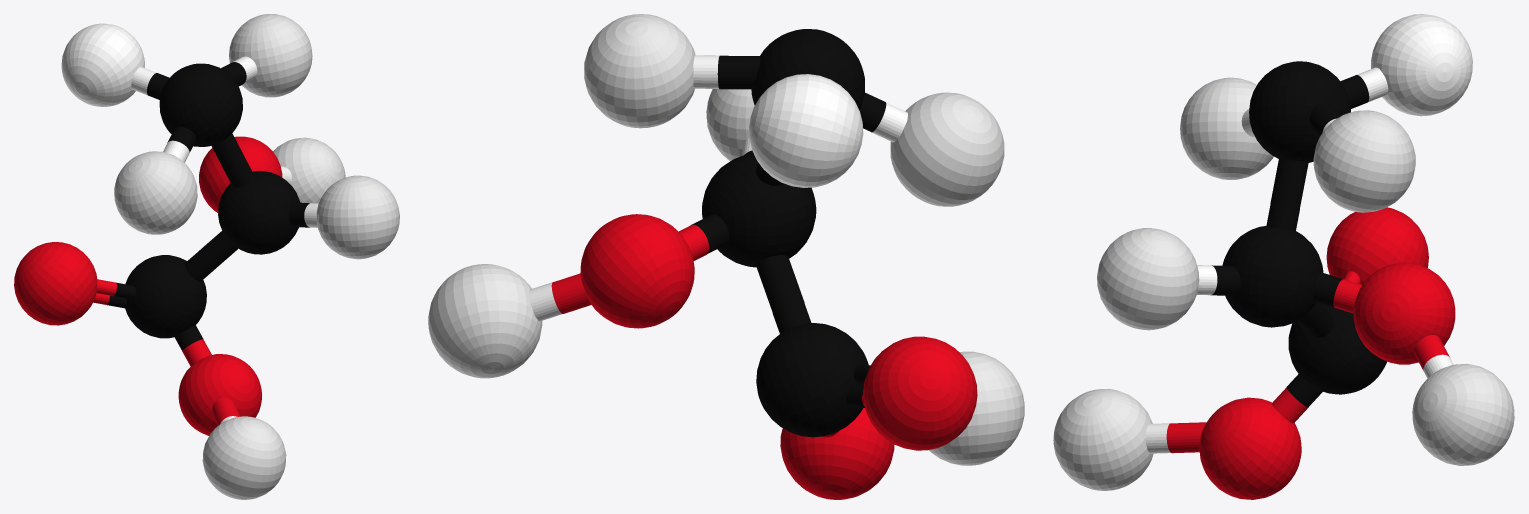
Rendered from lactic.glb.
3 views of the same model, side by side, from view 1: azimuth 30°, elevation 25°; view 2: azimuth 150°, elevation 25°; view 3: azimuth 270°, elevation 25° (orthographic). The views are drawn at different scales.
Visible parts, largest first — view 1: Lactic.019; view 2: Lactic.019; view 3: Lactic.019.
Boxes of the visible parts, x1=… form: Lactic.019: x1=14, y1=14, x2=399, y2=499; Lactic.019: x1=428, y1=14, x2=1024, y2=499; Lactic.019: x1=1053, y1=14, x2=1514, y2=499.
Size of the model in its own units: 0.9928 by 1 by 0.9113.
